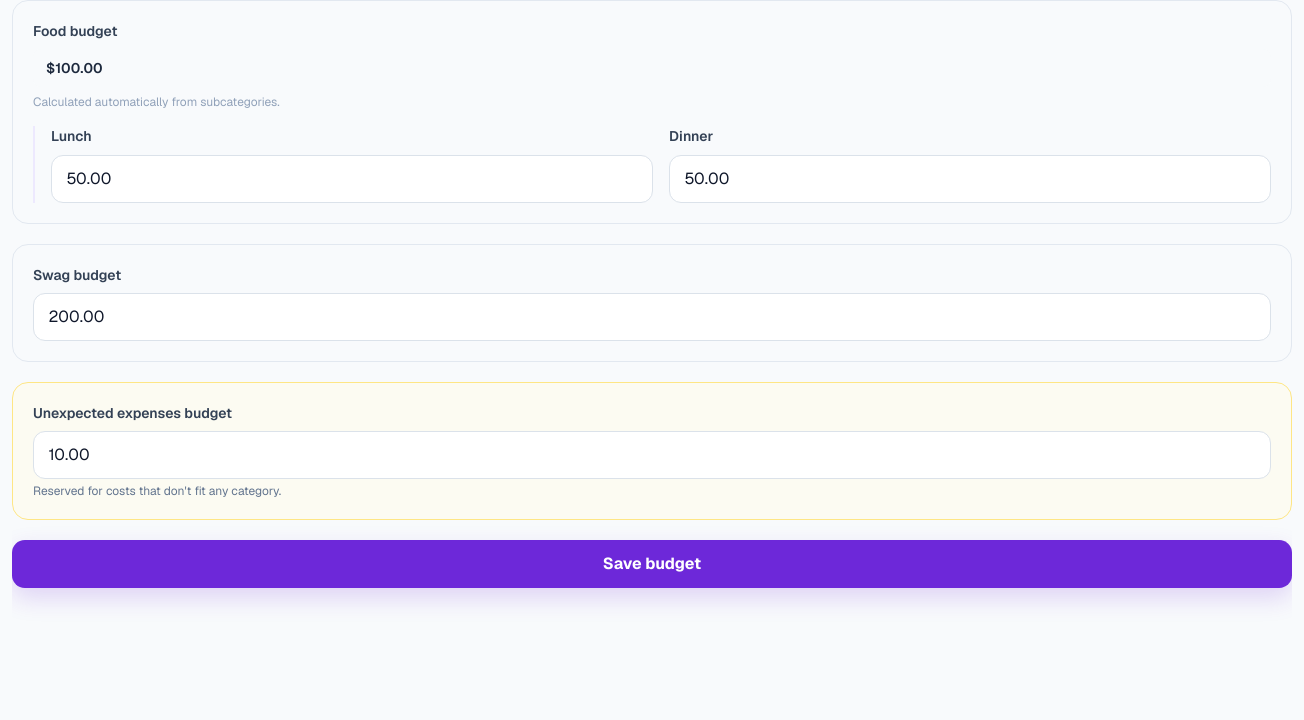
BudgetPlanForm › shows an error message returned from the action
The width and height of the screenshot is (1304, 720).
What coordinates should you click on to do the following:
click the button "Save budget"
I would click on:
 (652, 564)
Its box is [12,540,1292,588].
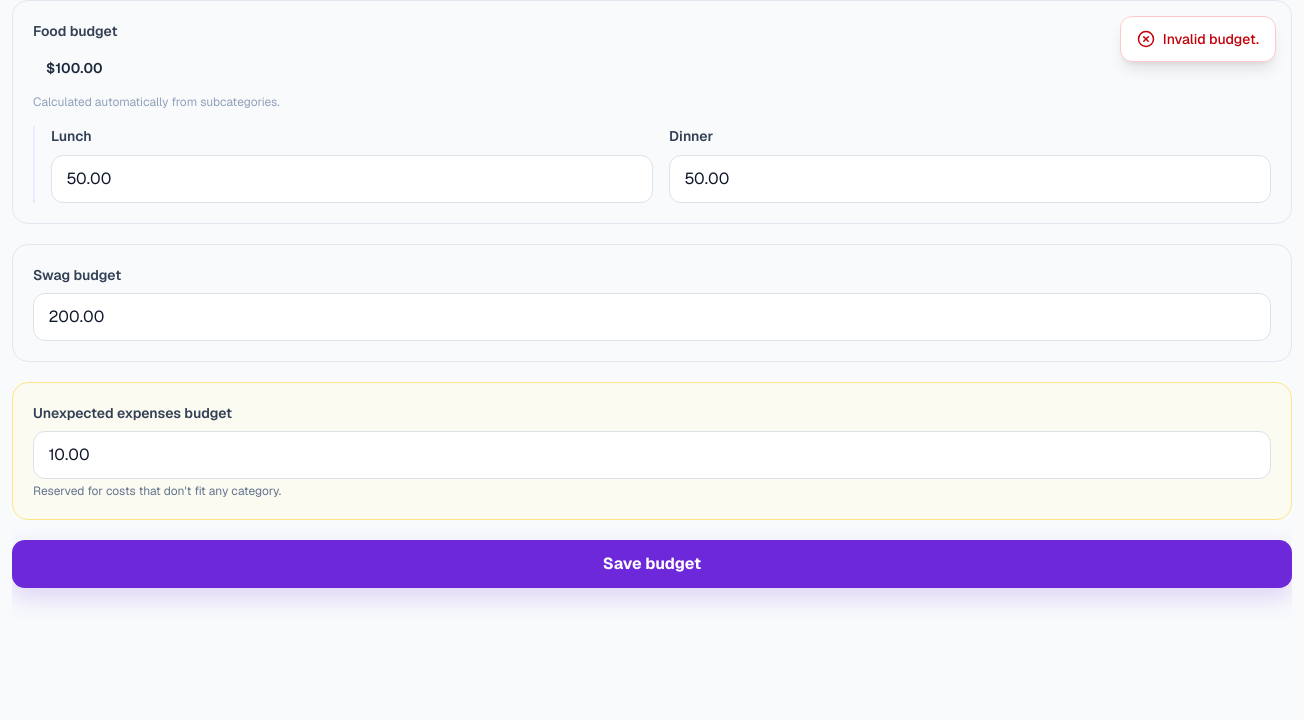
Result: the message reads "Invalid budget." at [1163,30,1259,48]
